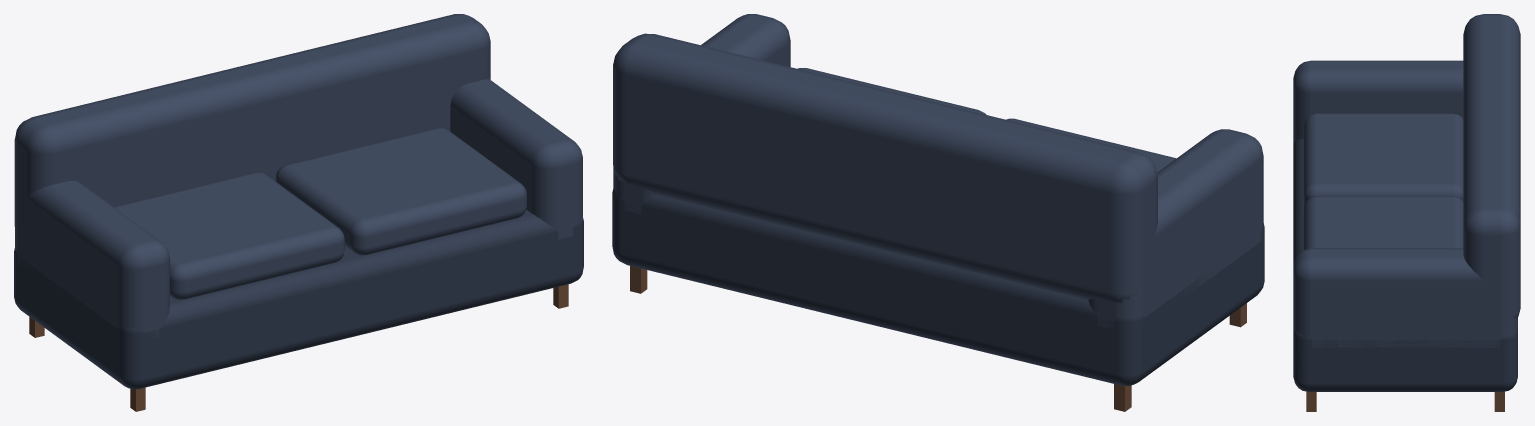
The model's file is sofa.glb.
3 renders of one model, left to right at view 1: azimuth 30°, elevation 25°; view 2: azimuth 150°, elevation 25°; view 3: azimuth 270°, elevation 25°, orthographic. The views are drawn at different scales.
Parts seen in each view (by area): view 1: sofa_malha; view 2: sofa_malha; view 3: sofa_malha.
Boxes of the visible parts, bbox=[...] form: sofa_malha: bbox=[14, 14, 583, 411]; sofa_malha: bbox=[612, 14, 1264, 411]; sofa_malha: bbox=[1293, 14, 1520, 411].
Bounding box in the file's own units: 1.9 × 0.85 × 0.87.
